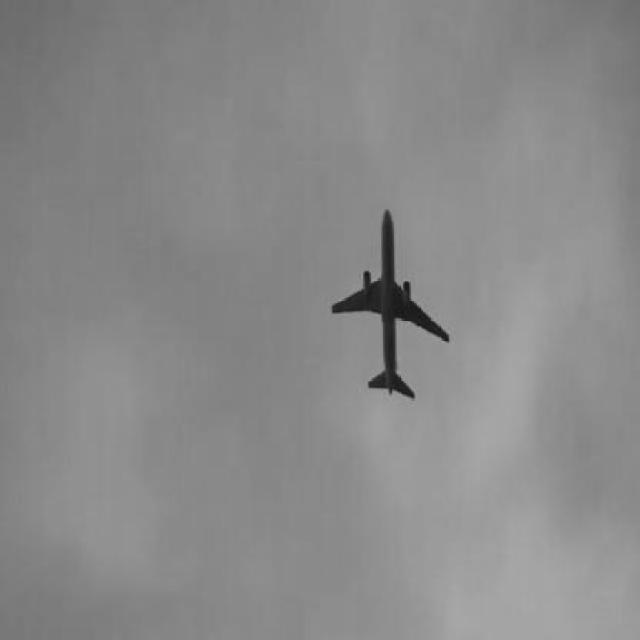aeroplane: (330, 208, 452, 395)
